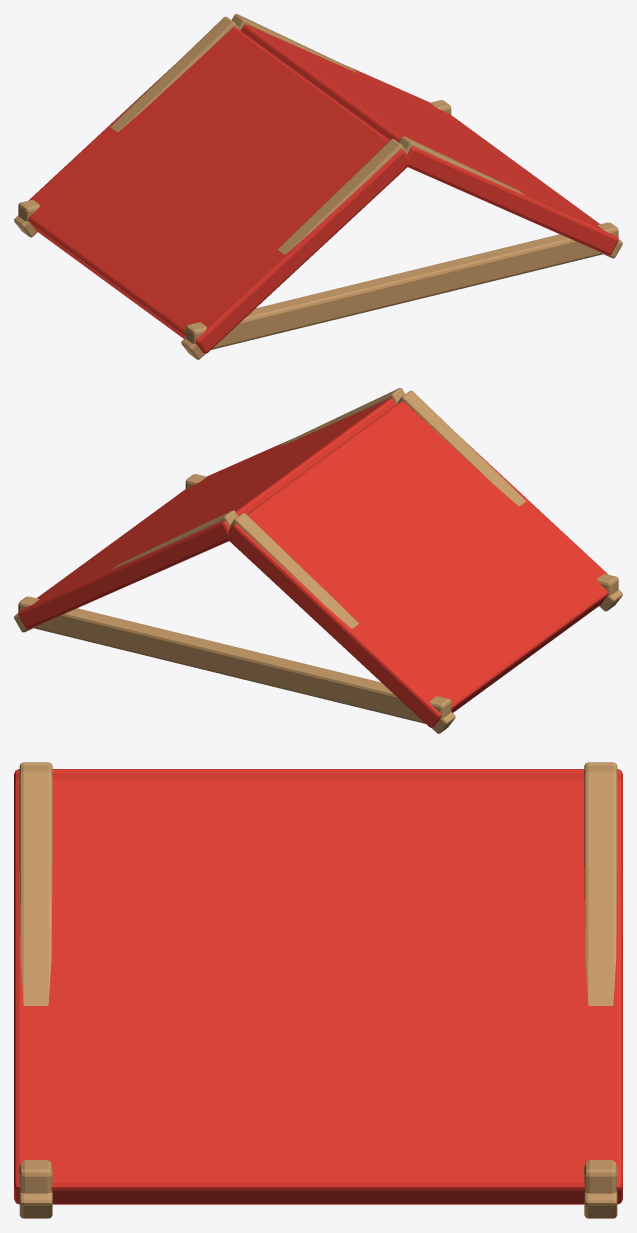
Rendered from S019_gable_roof.glb.
The picture shows the model from 3 angles, top to bottom: view 1: azimuth 30°, elevation 25°; view 2: azimuth 150°, elevation 25°; view 3: azimuth 270°, elevation 25°; orthographic projection. The views are drawn at different scales.
Parts seen in each view (by area): view 1: roof_plane, roof_plane.001, gable_tie, gable_rafter.002, gable_rafter, gable_rafter.001, gable_rafter.003, gable_tie.001; view 2: roof_plane, roof_plane.001, gable_tie.001, gable_rafter, gable_rafter.002, gable_rafter.003, gable_rafter.001, gable_tie; view 3: roof_plane.001, gable_rafter.001, gable_rafter.003, roof_plane, gable_tie, gable_tie.001.
Part boxes in pixels (x1,y1,x2,y2): roof_plane: [28, 27, 409, 353]; roof_plane.001: [240, 24, 618, 255]; gable_tie: [185, 222, 618, 351]; gable_rafter.002: [14, 16, 239, 237]; gable_rafter: [181, 139, 406, 359]; gable_rafter.001: [399, 136, 622, 258]; gable_rafter.003: [232, 14, 358, 73]; gable_tie.001: [18, 100, 451, 229]; roof_plane: [227, 401, 608, 727]; roof_plane.001: [18, 398, 396, 629]; gable_tie.001: [18, 596, 451, 723]; gable_rafter: [397, 390, 622, 611]; gable_rafter.002: [230, 513, 455, 733]; gable_rafter.003: [14, 510, 237, 632]; gable_rafter.001: [278, 388, 404, 447]; gable_tie: [185, 474, 618, 595]; roof_plane.001: [14, 778, 622, 1204]; gable_rafter.001: [19, 771, 52, 1218]; gable_rafter.003: [584, 771, 617, 1218]; roof_plane: [14, 769, 622, 782]; gable_tie: [19, 1160, 52, 1193]; gable_tie.001: [584, 1160, 617, 1193].
Bounding box in the file's own units: 3.06 × 1.12 × 2.2.
